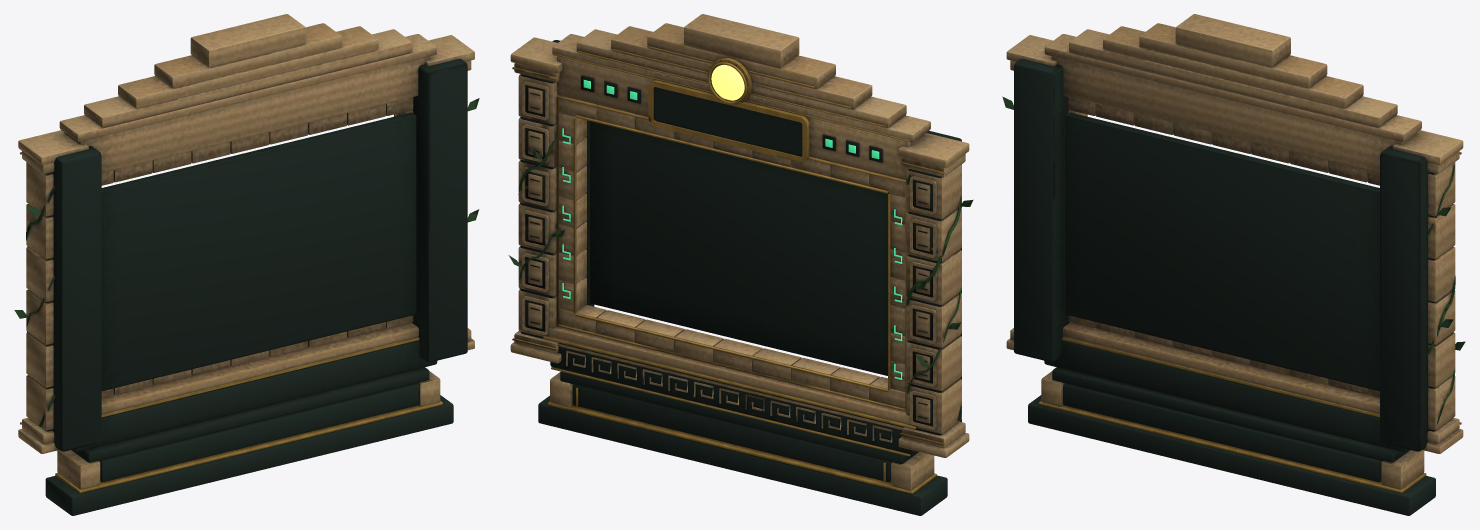
3 renders of one model, left to right at view 1: azimuth 30°, elevation 25°; view 2: azimuth 150°, elevation 25°; view 3: azimuth 330°, elevation 25°, orthographic.
Parts seen in each view (by area): view 1: Dark_basalt_and_inset, Warm_carved_sandstone, Antique_gold_trim, Forest_vines; view 2: Dark_basalt_and_inset, Warm_carved_sandstone, Antique_gold_trim, Forest_vines, Jade_inlay_glow, Golden_sun_glow; view 3: Dark_basalt_and_inset, Warm_carved_sandstone, Antique_gold_trim, Forest_vines.
Boxes of the visible parts, x1,y1,x2,y2 form: Dark_basalt_and_inset: (28,59,467,515); Warm_carved_sandstone: (18,14,474,489); Antique_gold_trim: (20,114,442,493); Forest_vines: (14,98,479,426); Dark_basalt_and_inset: (520,40,961,515); Warm_carved_sandstone: (510,14,969,490); Antique_gold_trim: (512,46,944,493); Forest_vines: (508,131,973,420); Jade_inlay_glow: (562,80,902,379); Golden_sun_glow: (711,64,744,100); Dark_basalt_and_inset: (1014,59,1452,515); Warm_carved_sandstone: (1006,14,1463,489); Antique_gold_trim: (1038,114,1461,493); Forest_vines: (1002,96,1465,423).
Size of the model in its own units: 9.95 by 9 by 1.24.
Materials: 6 (4 with a texture image).
